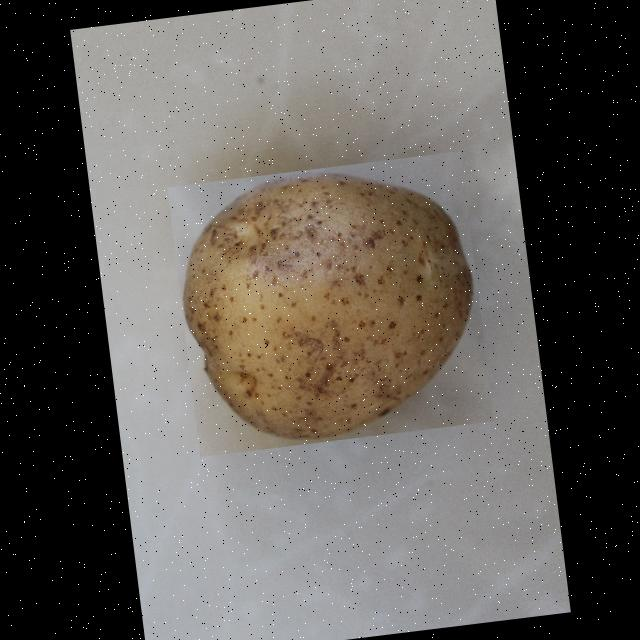Diseased-fungal potato: (166, 150, 494, 456)
